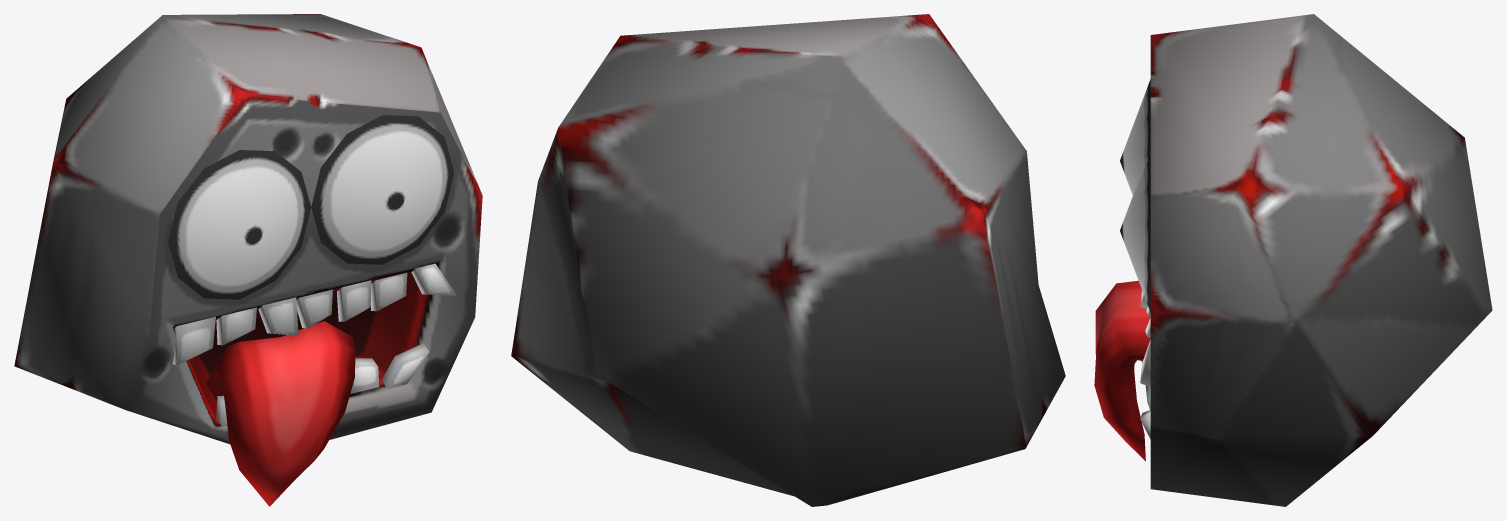
File: yunshi.FBX
3 views of the same model, side by side, from view 1: azimuth 30°, elevation 25°; view 2: azimuth 150°, elevation 25°; view 3: azimuth 270°, elevation 25° (orthographic). The views are drawn at different scales.
Visible parts, largest first — view 1: yunshi; view 2: yunshi; view 3: yunshi.
Part boxes in pixels (x1=…): yunshi: x1=14, y1=14, x2=482, y2=506; yunshi: x1=511, y1=14, x2=1065, y2=506; yunshi: x1=1094, y1=14, x2=1492, y2=506.
Size of the model in its own units: 935 by 919 by 760.
